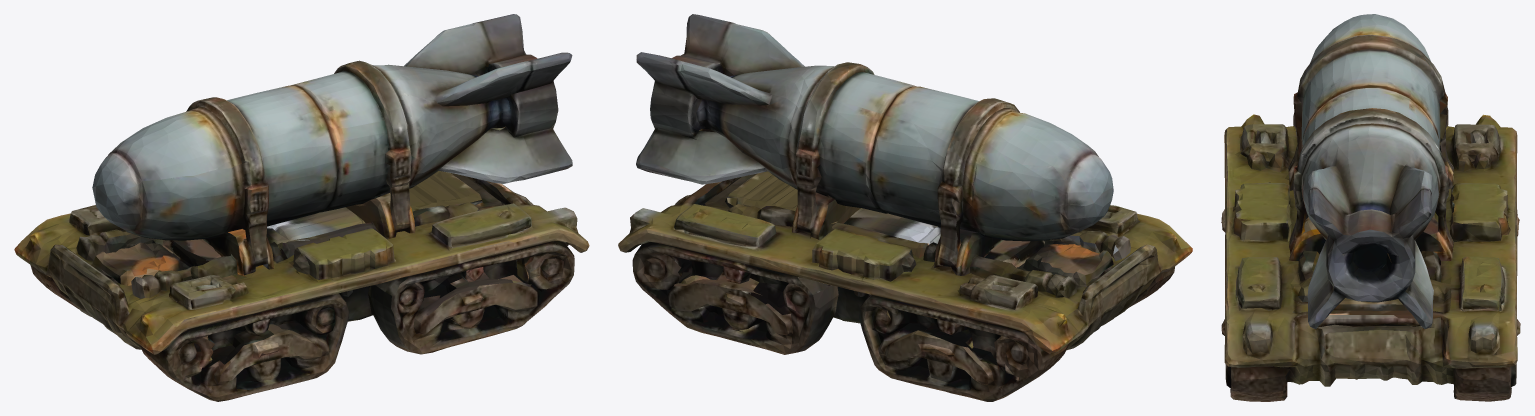
Rendered from missile-sled.glb.
3 views of the same model, side by side, from view 1: azimuth 30°, elevation 25°; view 2: azimuth 150°, elevation 25°; view 3: azimuth 270°, elevation 25° (orthographic). The views are drawn at different scales.
Visible parts, largest first — view 1: tmp5r20er7o.ply; view 2: tmp5r20er7o.ply; view 3: tmp5r20er7o.ply.
Boxes of the visible parts, <box> form: tmp5r20er7o.ply: <box>14,14,589,401</box>; tmp5r20er7o.ply: <box>618,14,1192,401</box>; tmp5r20er7o.ply: <box>1221,14,1520,401</box>.
Size of the model in its own units: 1 by 0.49 by 0.5335.
Materials: 1 (1 with a texture image).
